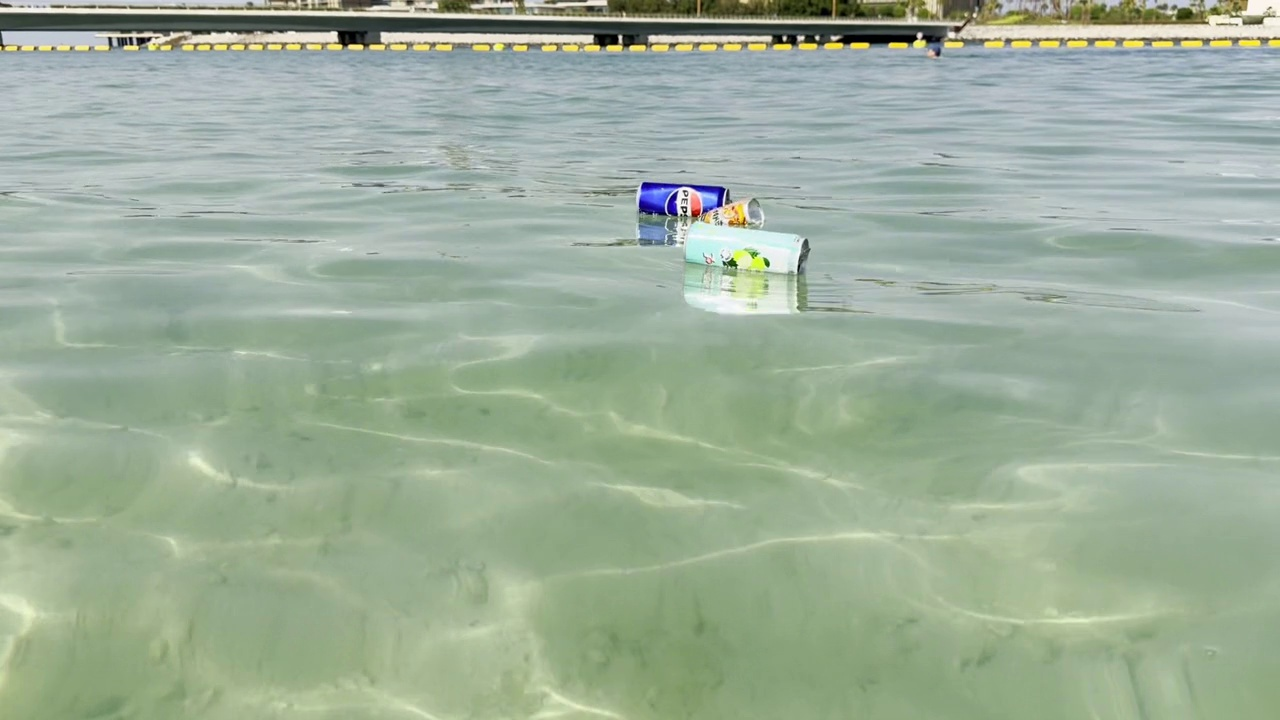debris: (679, 219, 816, 284), (627, 174, 736, 230), (689, 191, 770, 232)
